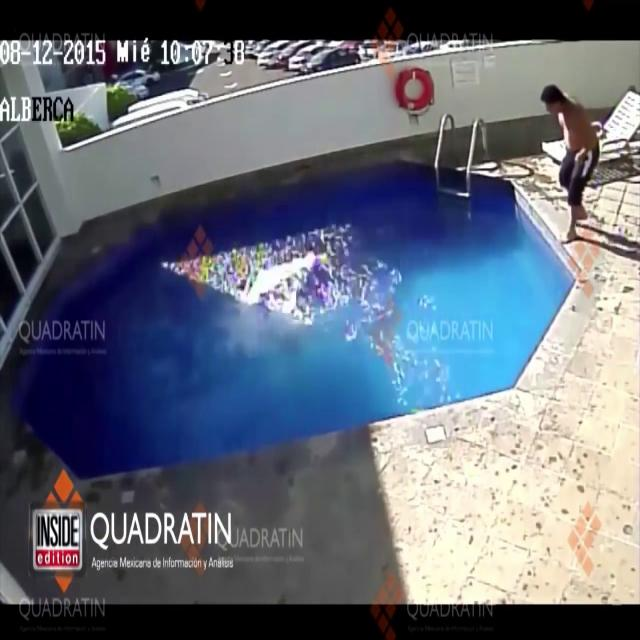adult: (542, 81, 598, 244)
